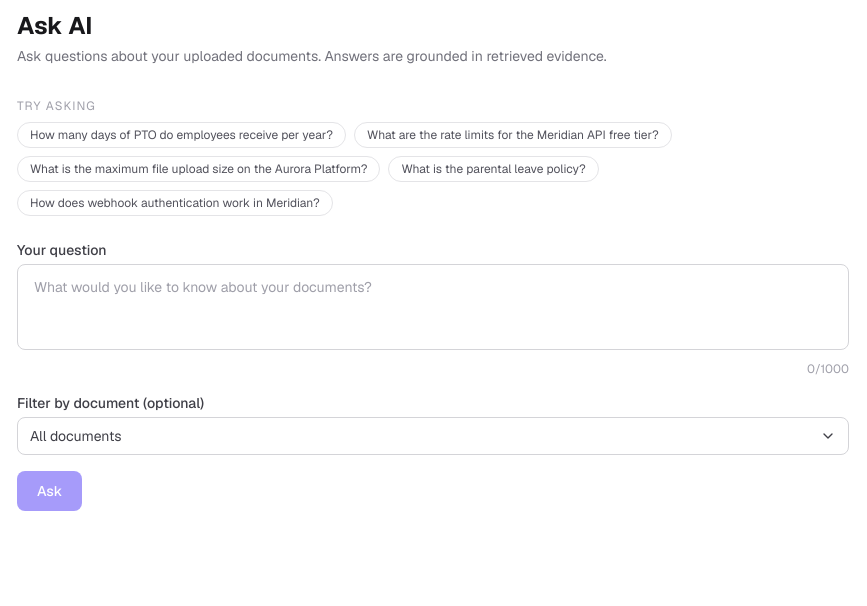
Test case: AskPage › shows unavailable message on HTTP 503
In the text box with placeholder "What would you like to know about your documents?": [433, 307] box [17, 264, 849, 350], type "Any question"
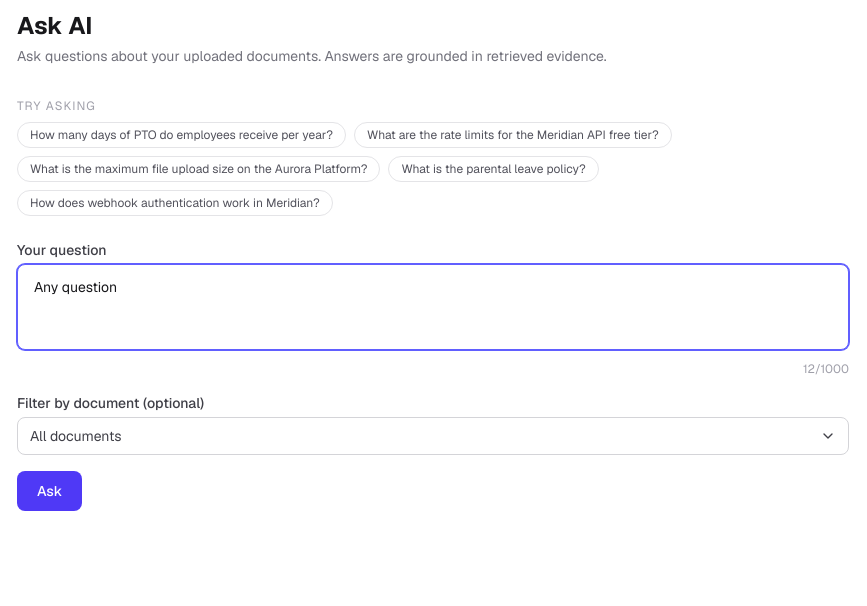
Click the button "Ask": [50, 491] box [17, 471, 82, 511]
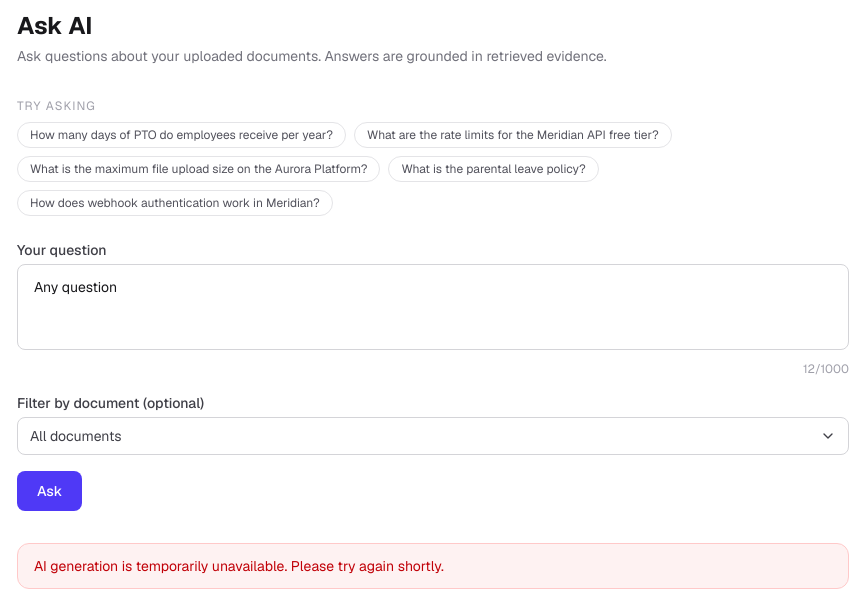
Check: the text "temporarily unavailable" is shown, box [34, 557, 444, 575]
